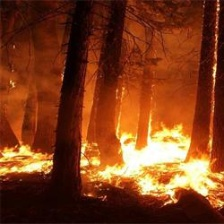fire: (1, 114, 224, 213)
